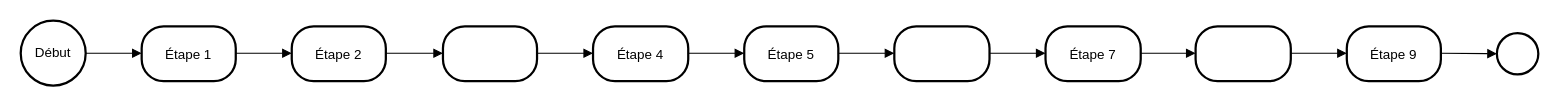
Image size: 1558x105. Some labels were removed from this diagram. Here are the shapes that lost their labels. From the top down, the centre of each, then its label:
At (x=489, y=53): "Étape 3".
At (x=941, y=53): "Étape 6".
At (x=1242, y=53): "Étape 8".
At (x=1517, y=53): "Fin".
